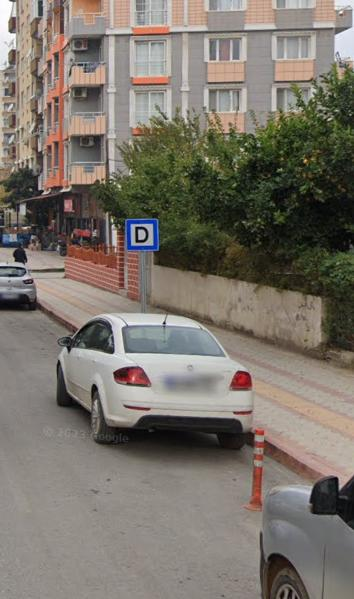station: (128, 218, 156, 248)
